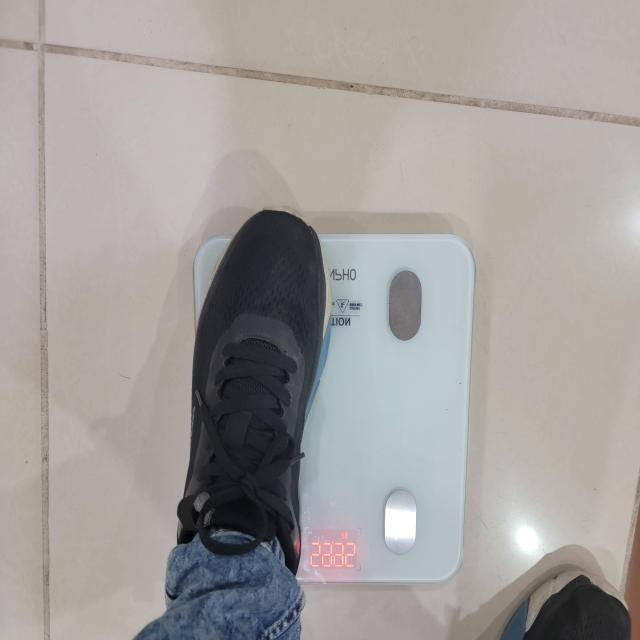ws: (297, 213, 481, 595)
